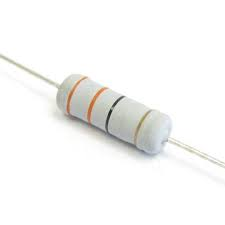resistor: (39, 55, 182, 174)
